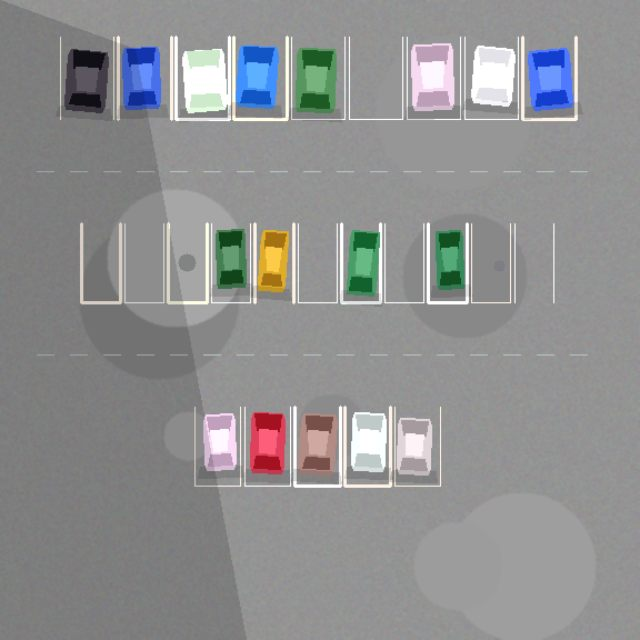space-empty: (349, 37, 402, 119), (81, 223, 120, 302), (124, 223, 163, 302), (168, 223, 207, 302), (298, 223, 337, 302), (384, 223, 423, 302), (471, 223, 510, 302), (514, 223, 553, 302)
space-occupied: (233, 37, 287, 119), (464, 37, 518, 119), (522, 37, 576, 119), (60, 37, 113, 119), (118, 37, 171, 119), (176, 37, 229, 119), (291, 37, 344, 119), (407, 37, 460, 119), (194, 407, 240, 486), (244, 407, 290, 486), (294, 407, 340, 486), (344, 407, 390, 486), (394, 407, 440, 486), (211, 223, 250, 302), (254, 223, 293, 302), (341, 223, 380, 302), (428, 223, 467, 302)
